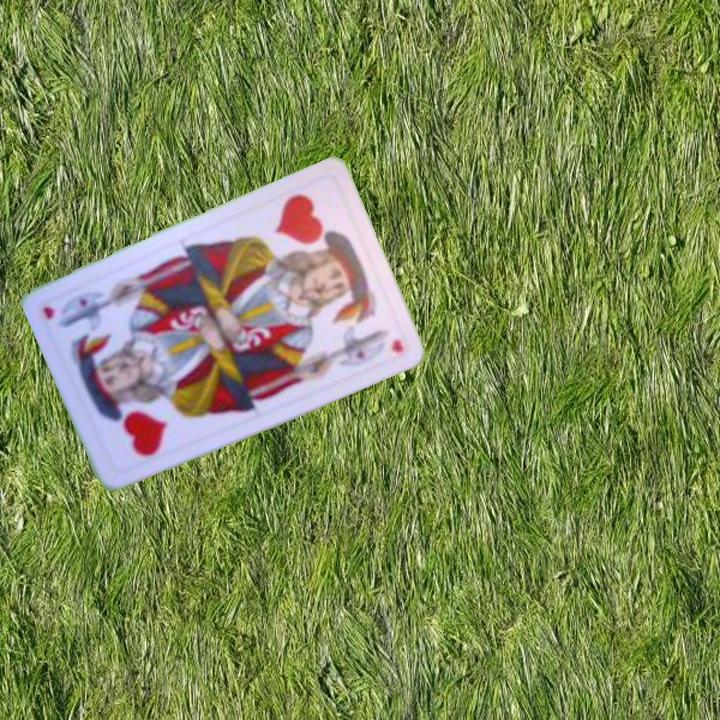h_j.png: (75, 354, 192, 478), (254, 174, 371, 298)
